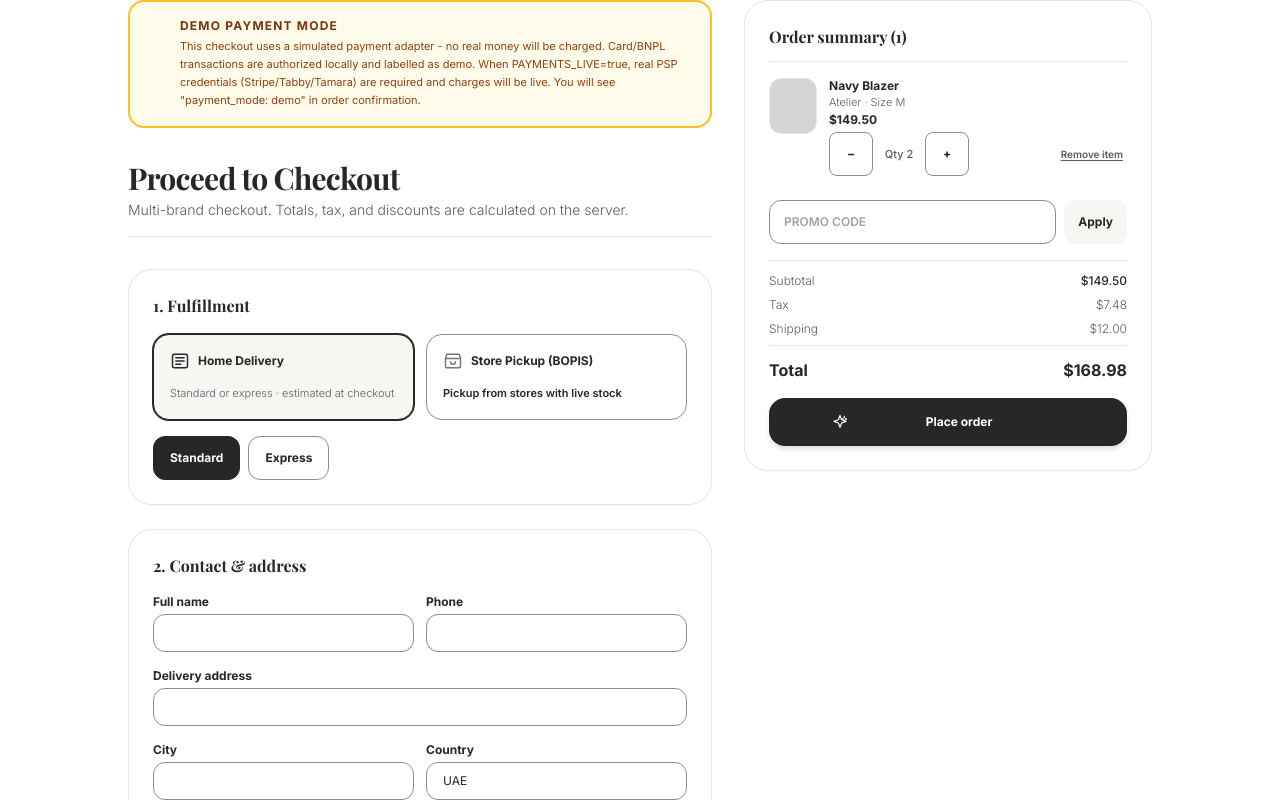
Test: promo code — pending label, alert on failure, context preserved › failure announces via role=alert and the typed code is NOT wiped
In the field labelled "Promo code": coordinates (913, 222) [769,200,1056,244], type "BADCODE"
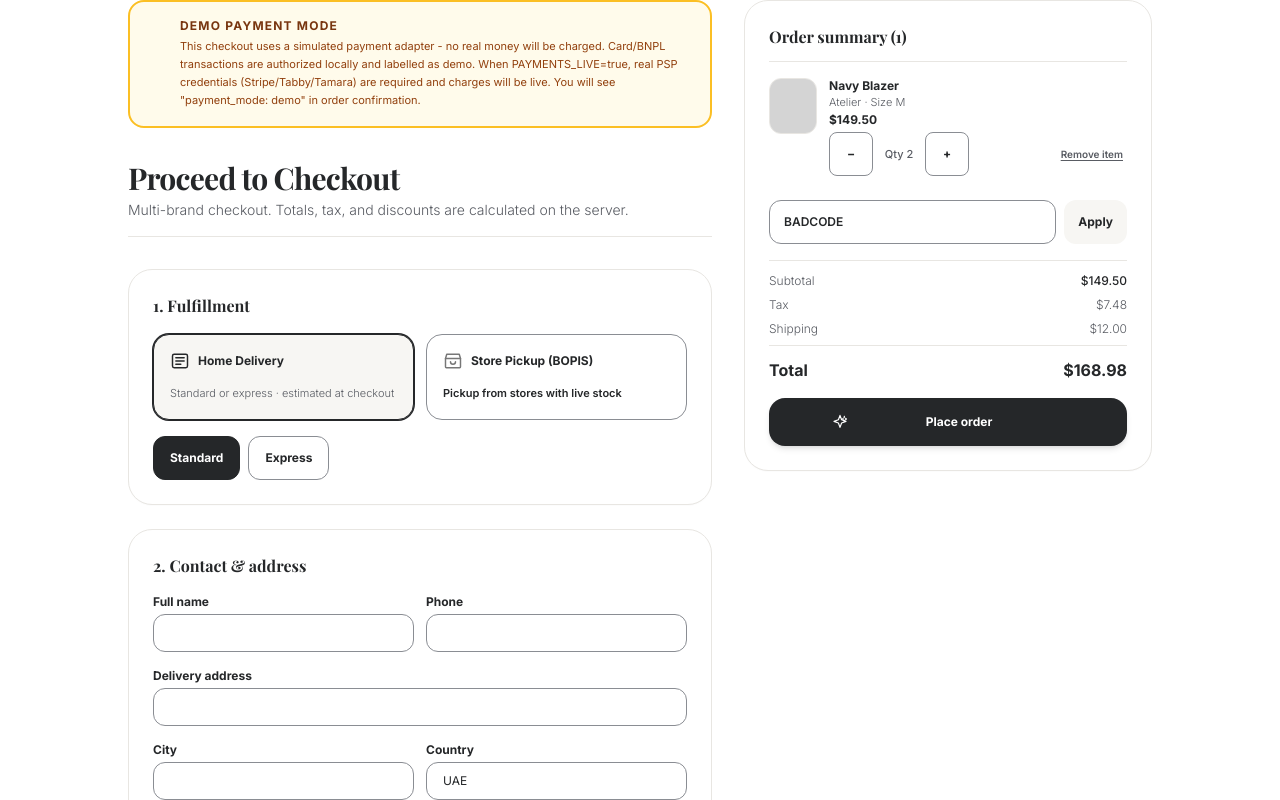
Click the button "Apply": coordinates (1096, 222) [1064,200,1127,244]
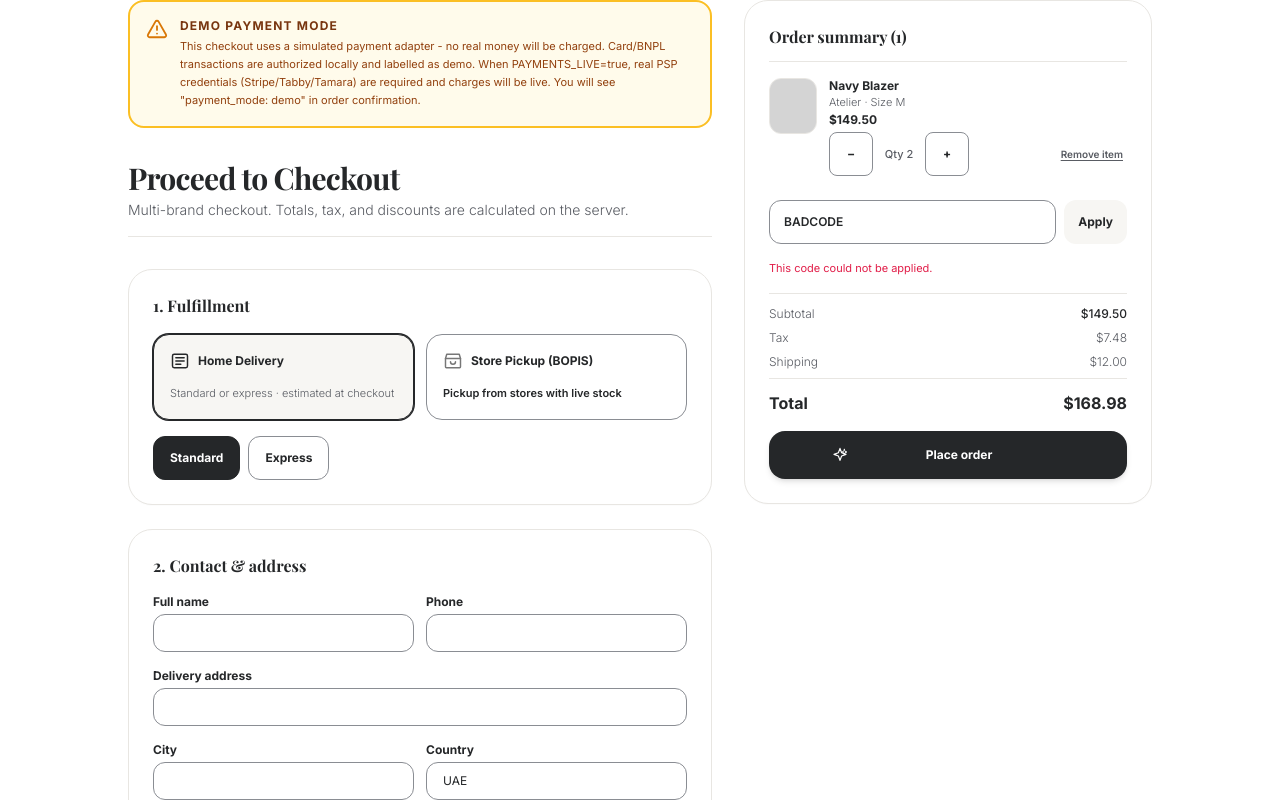
Expected: the message reads "This code could not be applied.", [769,261,932,275]
